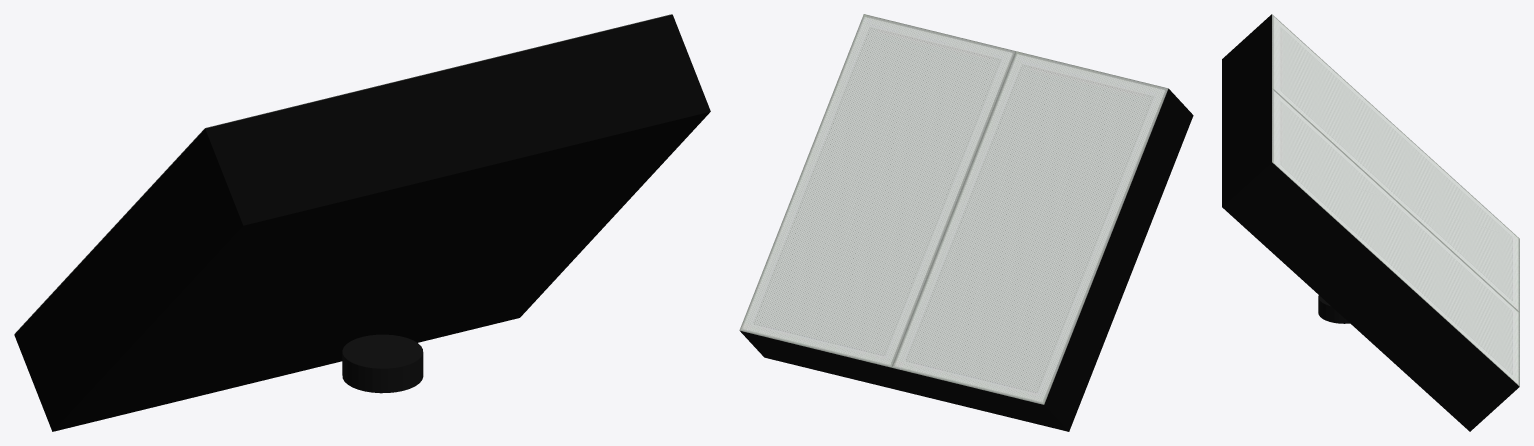
Rendered from angled_panel.glb.
3 renders of one model, left to right at view 1: azimuth 30°, elevation 25°; view 2: azimuth 150°, elevation 25°; view 3: azimuth 270°, elevation 25°, orthographic. The views are drawn at different scales.
Visible parts, largest first — view 1: Cube, Cylinder, panel; view 2: panel, Cube; view 3: panel, Cube, Cylinder.
Boxes of the visible parts, x1,y1,x2,y2 form: Cube: (14,14,710,431); Cylinder: (342,334,423,393); panel: (14,14,671,334); panel: (739,14,1168,404); Cube: (740,88,1193,431); panel: (1272,14,1519,386); Cube: (1222,14,1519,431); Cylinder: (1318,295,1349,323).
Size of what is drawn, in the model's own units: 2 by 1.7 by 1.7.
3 materials, 1 textured.
